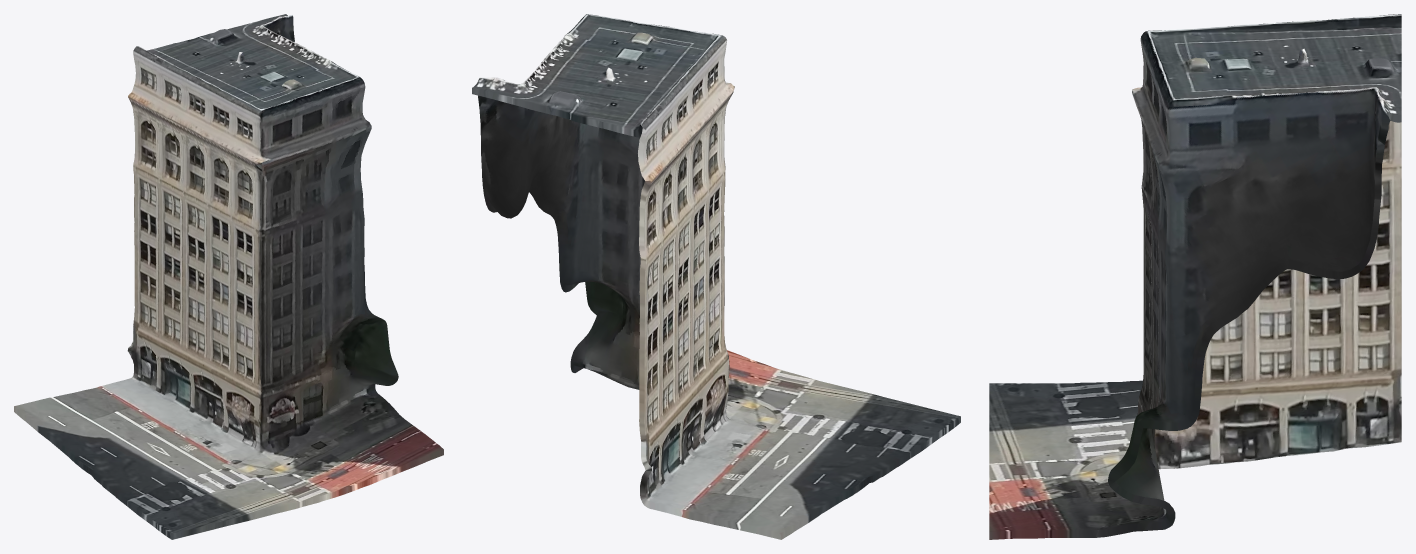
File: z20-167746-405243-h0-yup-uvflip-v3-world.glb
The picture shows the model from 3 angles, left to right: view 1: azimuth 30°, elevation 25°; view 2: azimuth 150°, elevation 25°; view 3: azimuth 270°, elevation 25°; orthographic projection. The views are drawn at different scales.
Bounding box in the file's own units: 30.16 × 37.52 × 30.32.
1 material, 1 textured.
